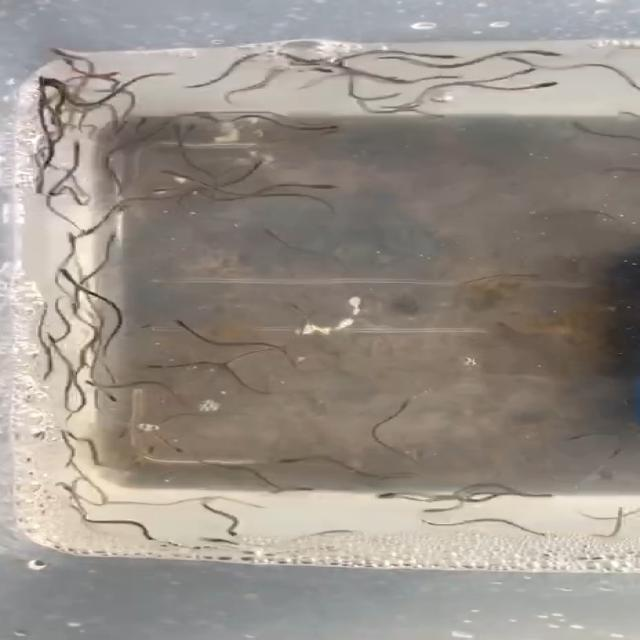inactive_glass_eel: (37, 39, 89, 55), (304, 179, 349, 197), (128, 522, 165, 543), (82, 445, 113, 469), (49, 225, 85, 244), (19, 71, 59, 88), (533, 75, 567, 94), (164, 315, 202, 332), (12, 78, 70, 89), (559, 428, 596, 445), (306, 122, 349, 136), (562, 117, 596, 133), (183, 116, 210, 136), (390, 395, 420, 413), (365, 489, 406, 502), (278, 454, 316, 468), (96, 392, 136, 405), (146, 185, 183, 199), (56, 261, 82, 280), (105, 227, 132, 245), (413, 506, 453, 518), (150, 164, 184, 178), (254, 223, 283, 239), (52, 478, 76, 497), (493, 54, 529, 66), (304, 63, 340, 75), (419, 108, 449, 122), (294, 482, 324, 496), (45, 330, 66, 350), (530, 48, 571, 58), (48, 57, 82, 69), (382, 85, 406, 102), (510, 63, 542, 75), (30, 76, 68, 86), (31, 369, 56, 384), (130, 360, 170, 369), (66, 138, 89, 152), (431, 51, 460, 62), (103, 68, 128, 80), (219, 528, 249, 538), (613, 504, 629, 520), (619, 107, 636, 119)
